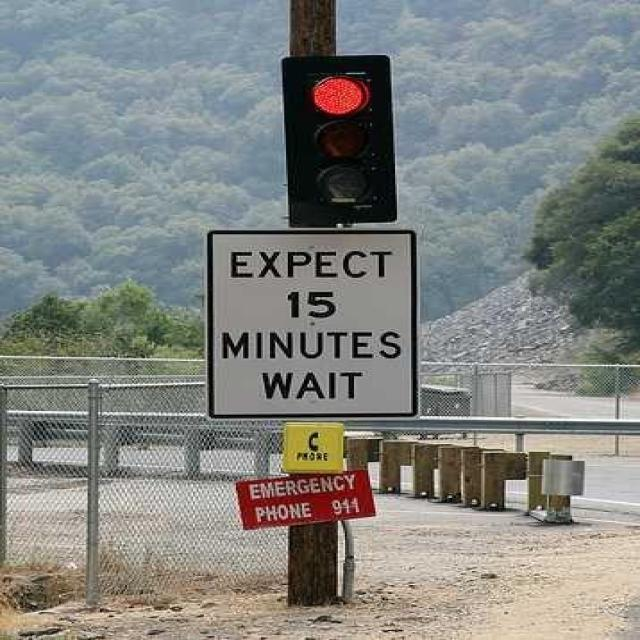Traffic Light -Red-: (295, 56, 391, 240)
